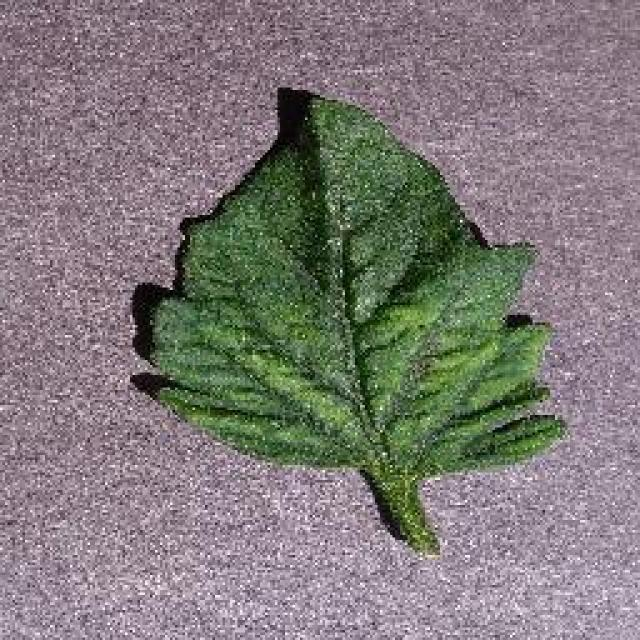Tomato spider mites leaf: (148, 84, 570, 478)
